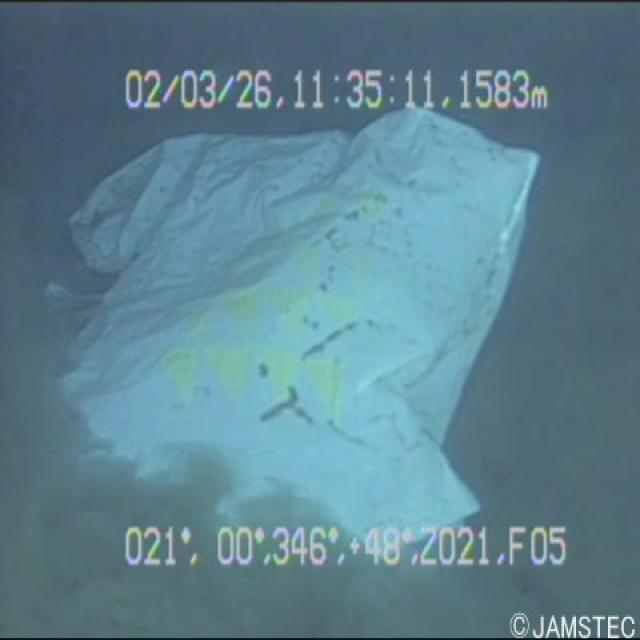plastic: (33, 96, 564, 588)
